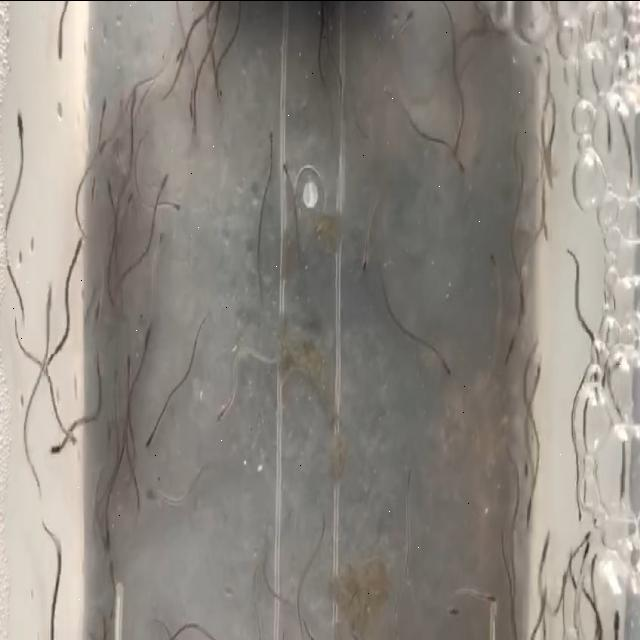active_glass_eel: (68, 232, 85, 278), (449, 138, 470, 174), (535, 201, 551, 243), (46, 436, 68, 466), (522, 496, 536, 543), (598, 355, 614, 395), (125, 83, 142, 120), (436, 348, 456, 378), (90, 286, 103, 332), (581, 515, 597, 550), (539, 528, 553, 568), (592, 346, 602, 400), (123, 353, 135, 396), (530, 350, 542, 392), (155, 165, 168, 203), (53, 20, 65, 61), (58, 418, 78, 442), (624, 152, 636, 192), (96, 95, 110, 128), (14, 110, 24, 156), (266, 122, 278, 158), (602, 118, 614, 153), (167, 47, 182, 75), (502, 337, 514, 372), (488, 242, 501, 274), (154, 226, 166, 260), (146, 482, 162, 507), (214, 404, 230, 428), (46, 277, 56, 315), (184, 89, 194, 127), (165, 189, 182, 211), (102, 516, 112, 552), (361, 239, 369, 283), (141, 321, 154, 348), (442, 602, 460, 621), (518, 275, 528, 309), (612, 606, 622, 640), (589, 551, 601, 579), (584, 539, 594, 568), (280, 154, 292, 178), (144, 426, 156, 450), (478, 591, 496, 605)
